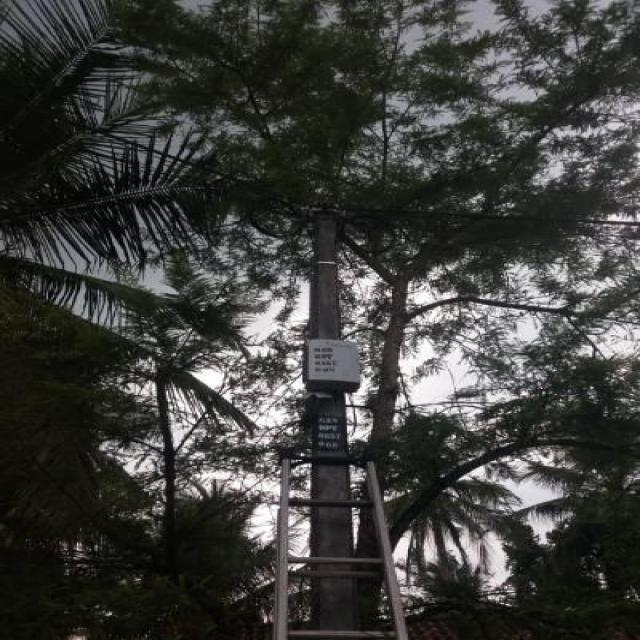light_pole: (292, 211, 376, 640)
